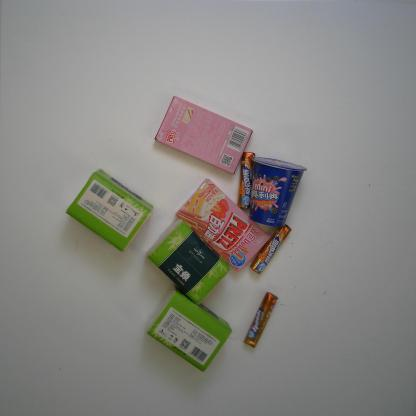Candy: (242, 291, 280, 349), (250, 224, 292, 276), (236, 151, 256, 209)
Dessert: (174, 178, 272, 274), (154, 95, 254, 176), (248, 156, 308, 227)
Tissue: (145, 216, 232, 306), (64, 167, 155, 253), (144, 289, 233, 374)
